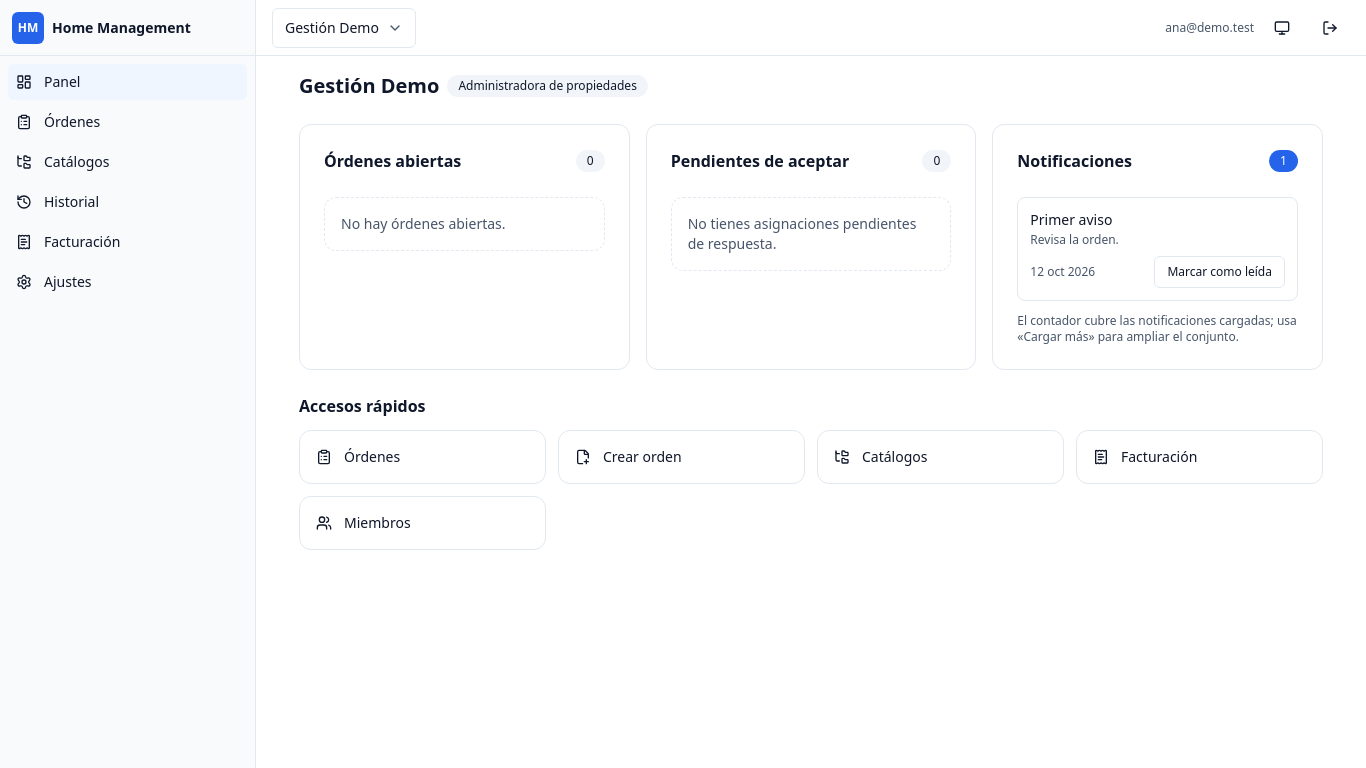
Scenario: dashboard screen (spec F2) › marks a notification as read and the badge drops (AC-F2.8)
Click the button with aria-label "Marcar como leída: Primer aviso": x=1220, y=272 [1154,256,1285,288]
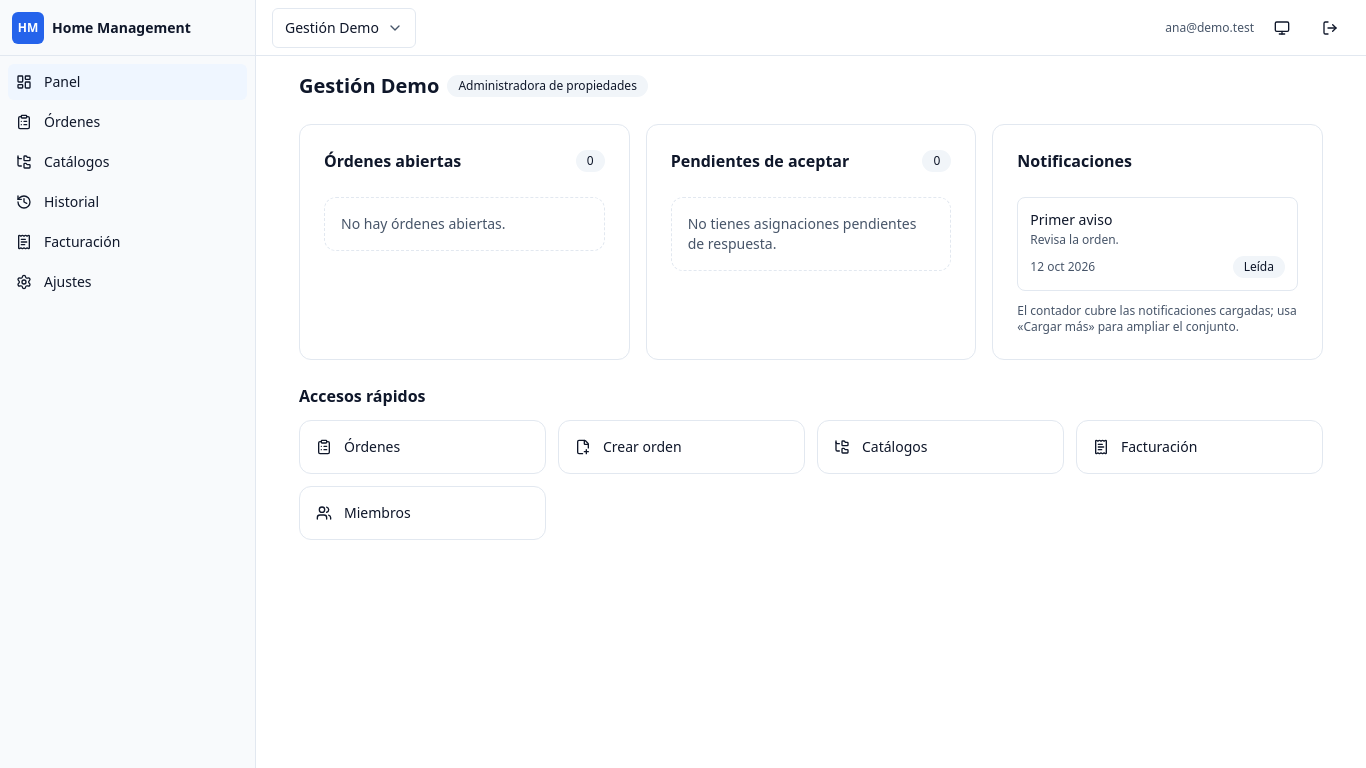
Expected: the text "1 notificación sin leer" is not shown
Now the text "Leída" is shown, box [1233,256,1285,278]
